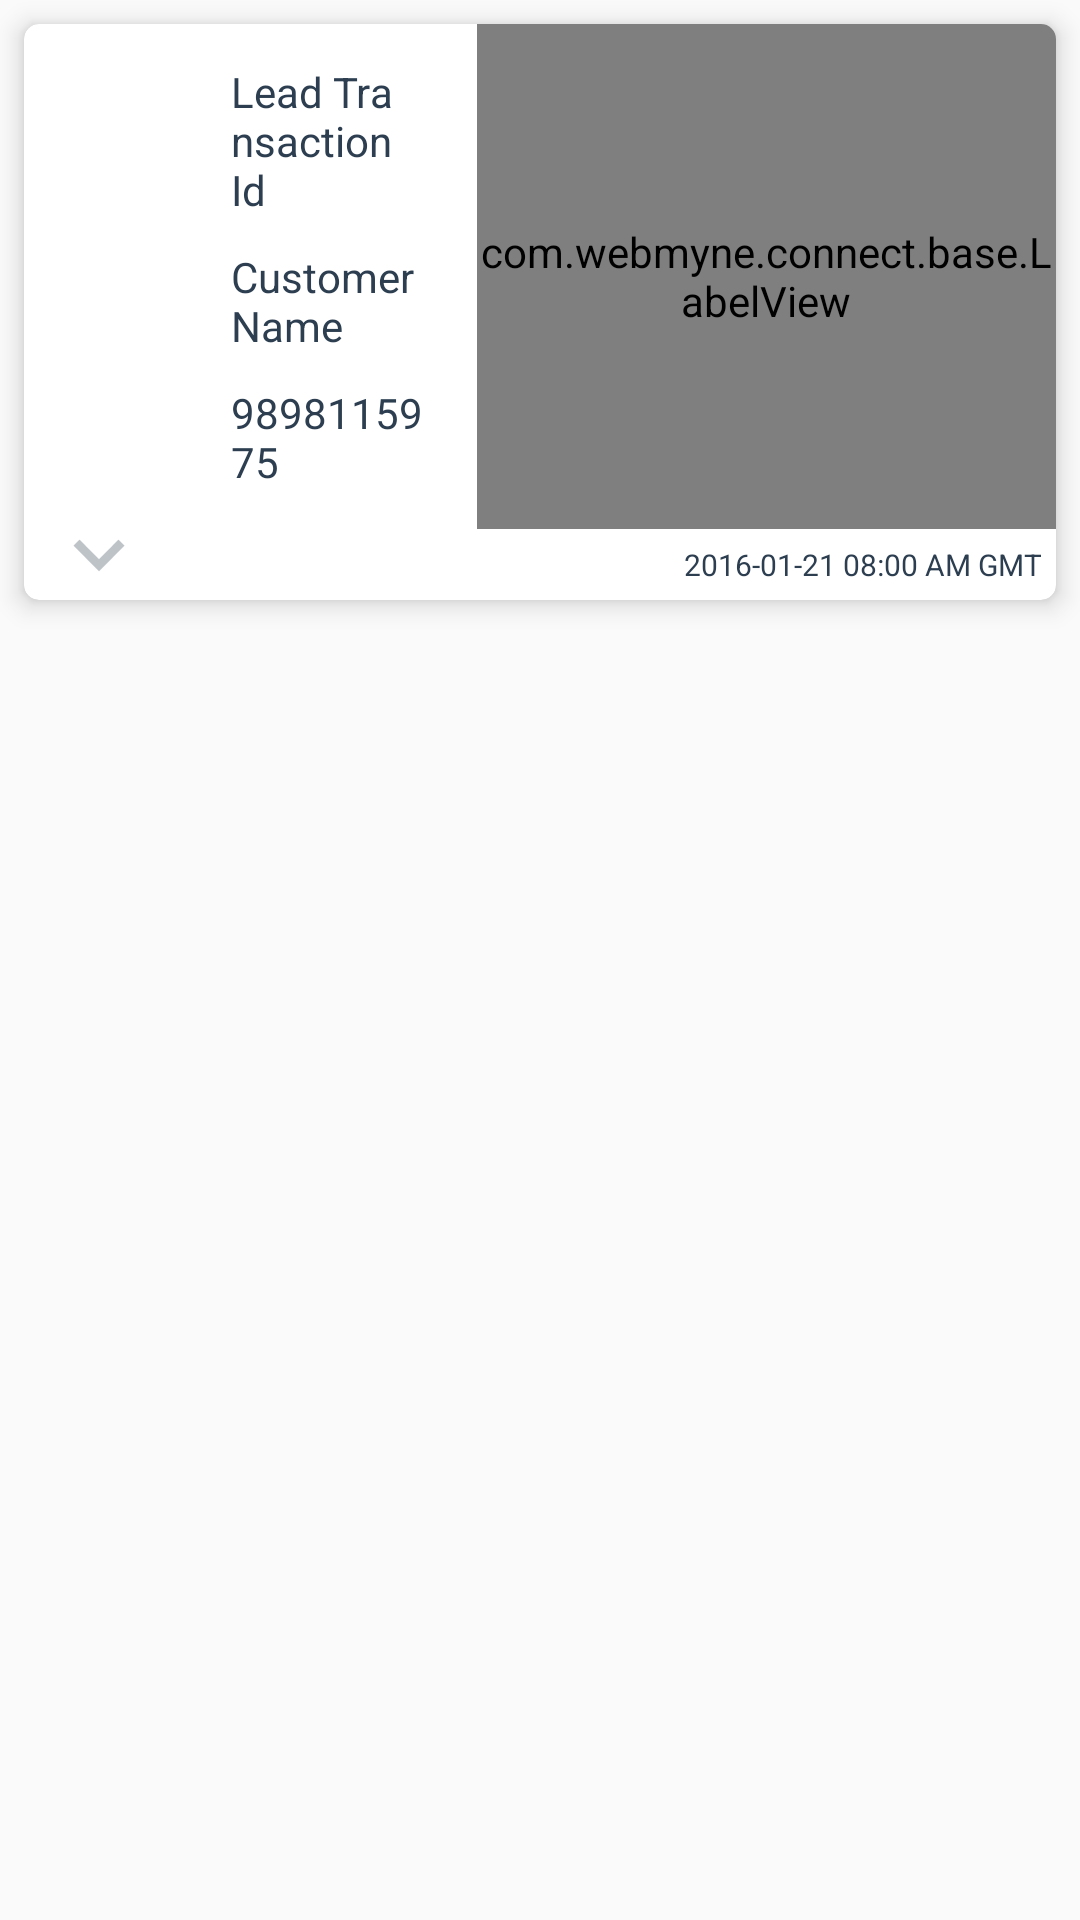

Screen size 1080px×1920px. Icon name, then its box in pixels as [left=x1, top=y1, right=x2, bottom=y2]:
arrow down: [left=74, top=540, right=124, bottom=571]
